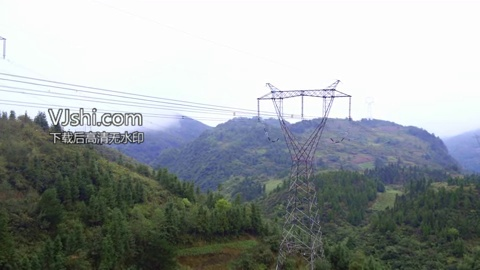tower_body: (254, 76, 356, 270)
tower_foot: (275, 224, 328, 270)
tower_head: (256, 79, 353, 161)
